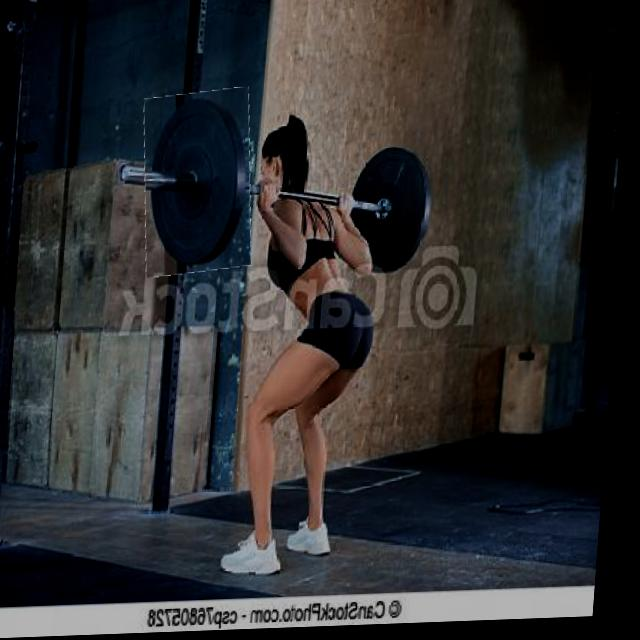barbell: (140, 91, 262, 278)
